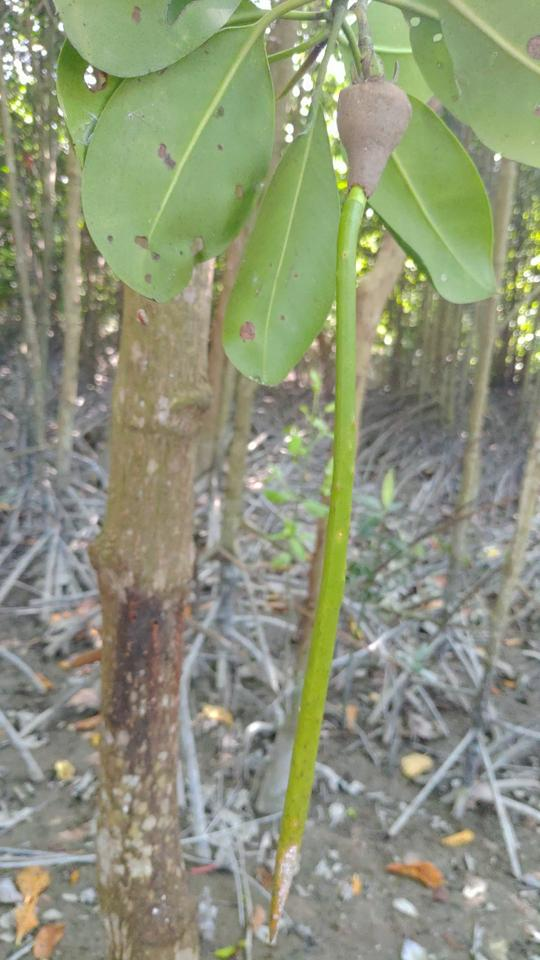setengah matang: (252, 58, 430, 951)
